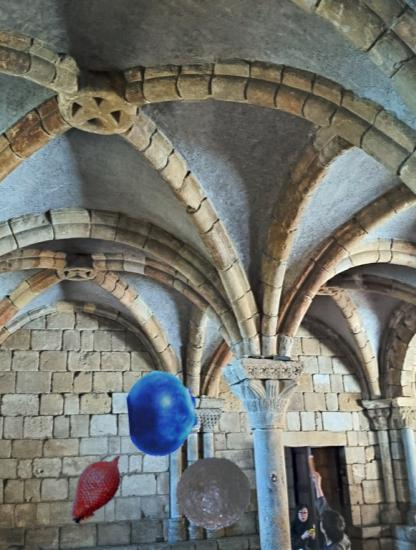Avocado: (175, 451, 258, 534)
Huckleberry: (119, 370, 206, 457)
Salak: (56, 448, 137, 529)
